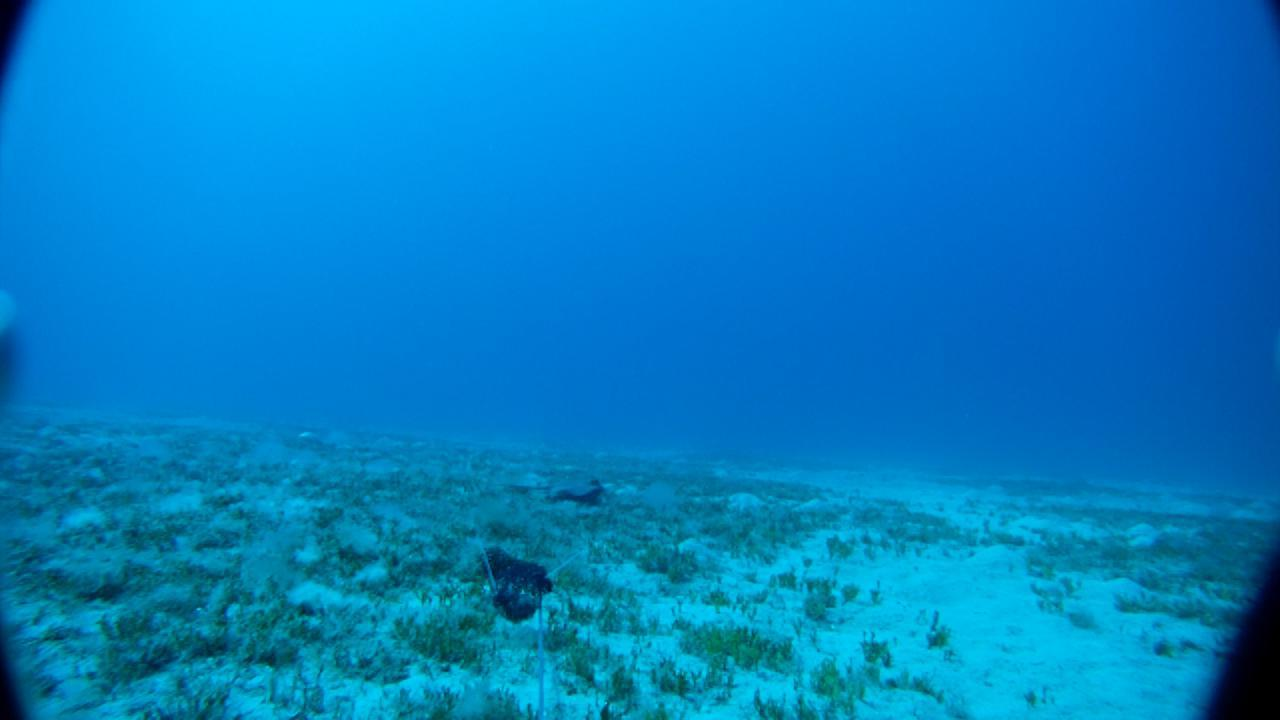dasyatis: (506, 478, 604, 504)
